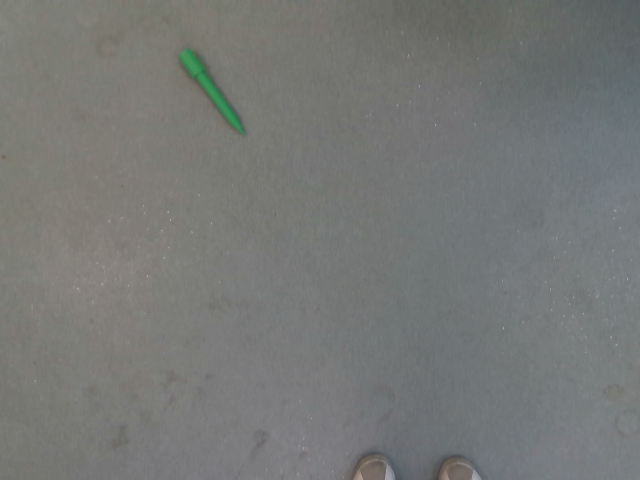Probe: (175, 41, 250, 142)
